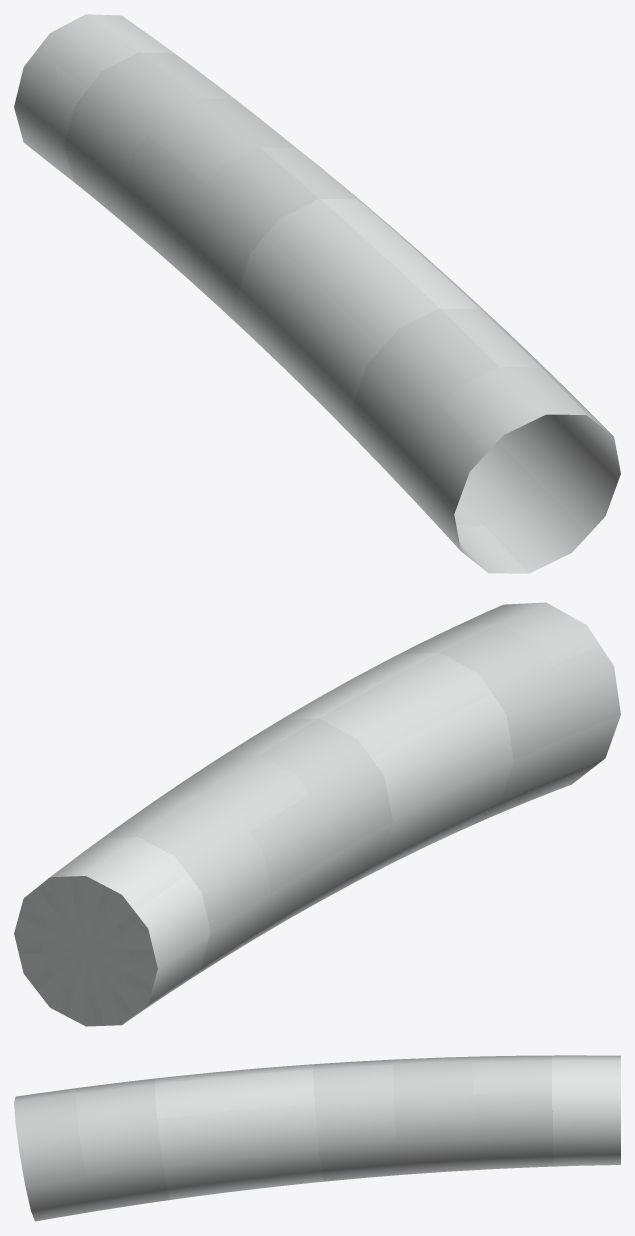
Rendered from luminairearm_caltrans8ftdouble_c3.obj.
3 views of the same model, one above another, from view 1: azimuth 30°, elevation 25°; view 2: azimuth 150°, elevation 25°; view 3: azimuth 270°, elevation 25° (orthographic). The views are drawn at different scales.
Parts seen in each view (by area): view 1: luminairearm_caltrans8ftdouble_c3; view 2: luminairearm_caltrans8ftdouble_c3; view 3: luminairearm_caltrans8ftdouble_c3.
Part boxes in pixels (bbox=[...]): luminairearm_caltrans8ftdouble_c3: bbox=[14, 14, 620, 573]; luminairearm_caltrans8ftdouble_c3: bbox=[14, 602, 620, 1026]; luminairearm_caltrans8ftdouble_c3: bbox=[14, 1055, 620, 1221].
Size of the model in its own units: 0.2028 by 0.2738 by 0.9694.
